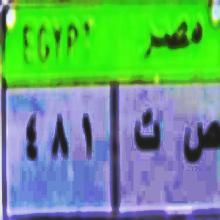1: (78, 114, 101, 167)
4: (19, 113, 41, 165)
8: (47, 109, 71, 169)
saad: (181, 116, 220, 173)
taa: (131, 108, 163, 162)
